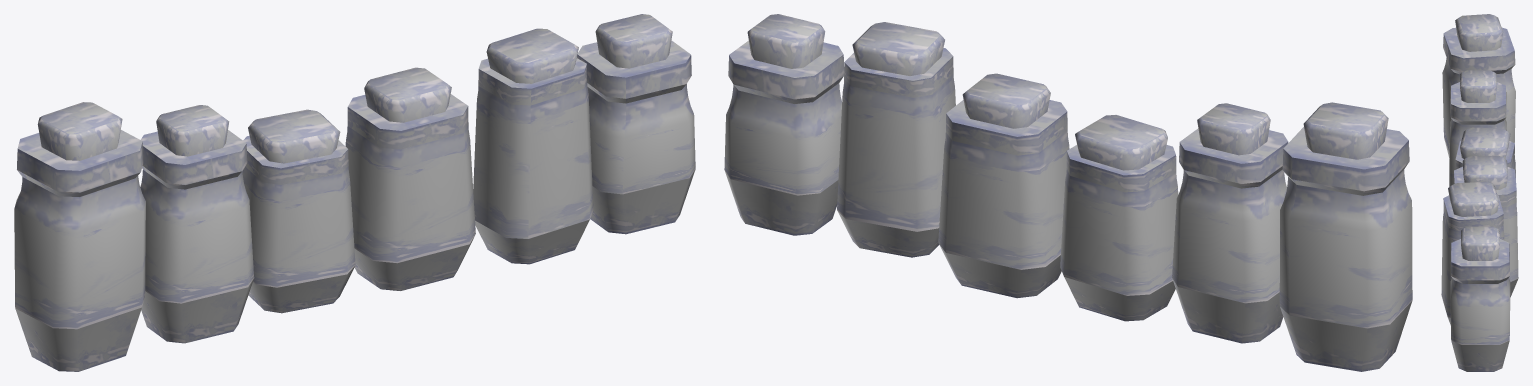
The model's file is SmallBottles_2.fbx.
3 renders of one model, left to right at view 1: azimuth 30°, elevation 25°; view 2: azimuth 150°, elevation 25°; view 3: azimuth 270°, elevation 25°, orthographic. The views are drawn at different scales.
Visible parts, largest first — view 1: SmallBottles_2; view 2: SmallBottles_2; view 3: SmallBottles_2.
Part boxes in pixels (box(x1,y1,x2,y2)): SmallBottles_2: box(14, 14, 695, 371); SmallBottles_2: box(724, 14, 1412, 371); SmallBottles_2: box(1441, 14, 1518, 371).
Size of the model in its own units: 40.99 by 14.17 by 6.25.
